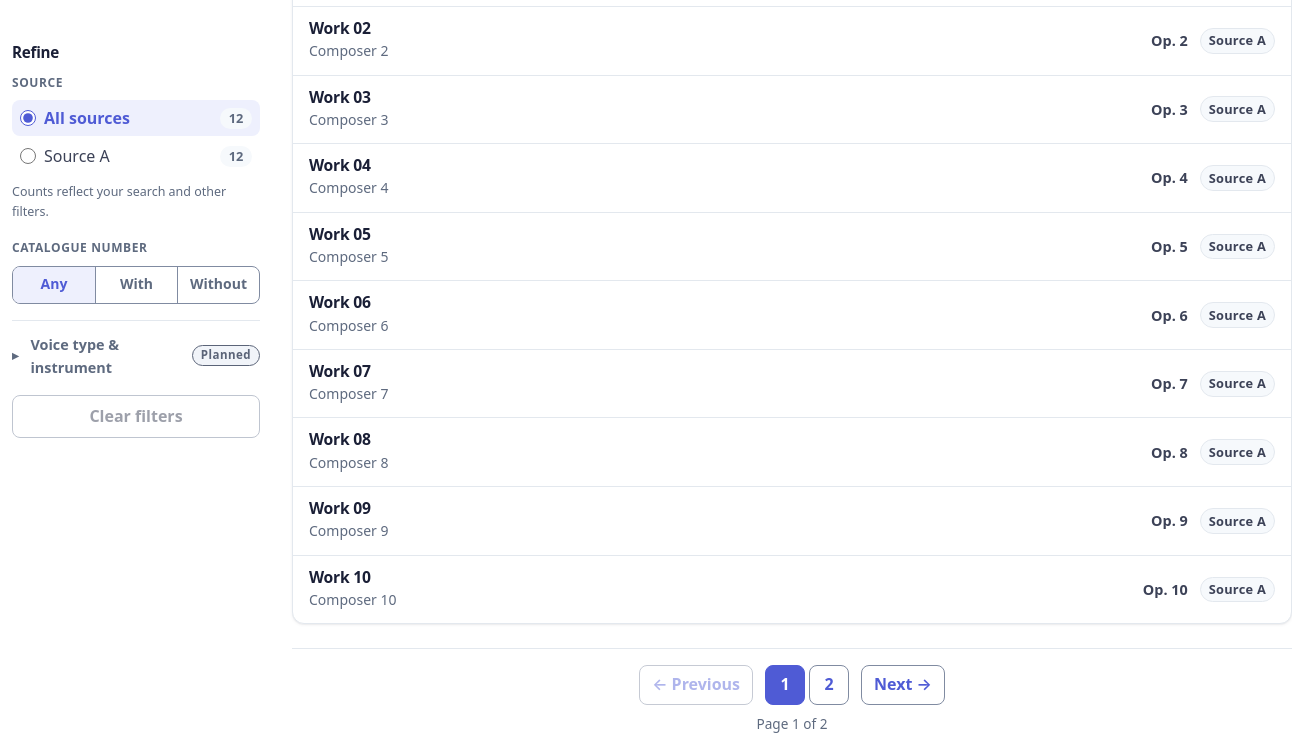
Scenario: WorkCataloguePage › jumps to a numbered page
(page scrolled)
What coordinates should you click on to do the following:
click the button "2"
I would click on:
 (829, 685)
Its box is [809, 665, 849, 705].
(page scrolled)
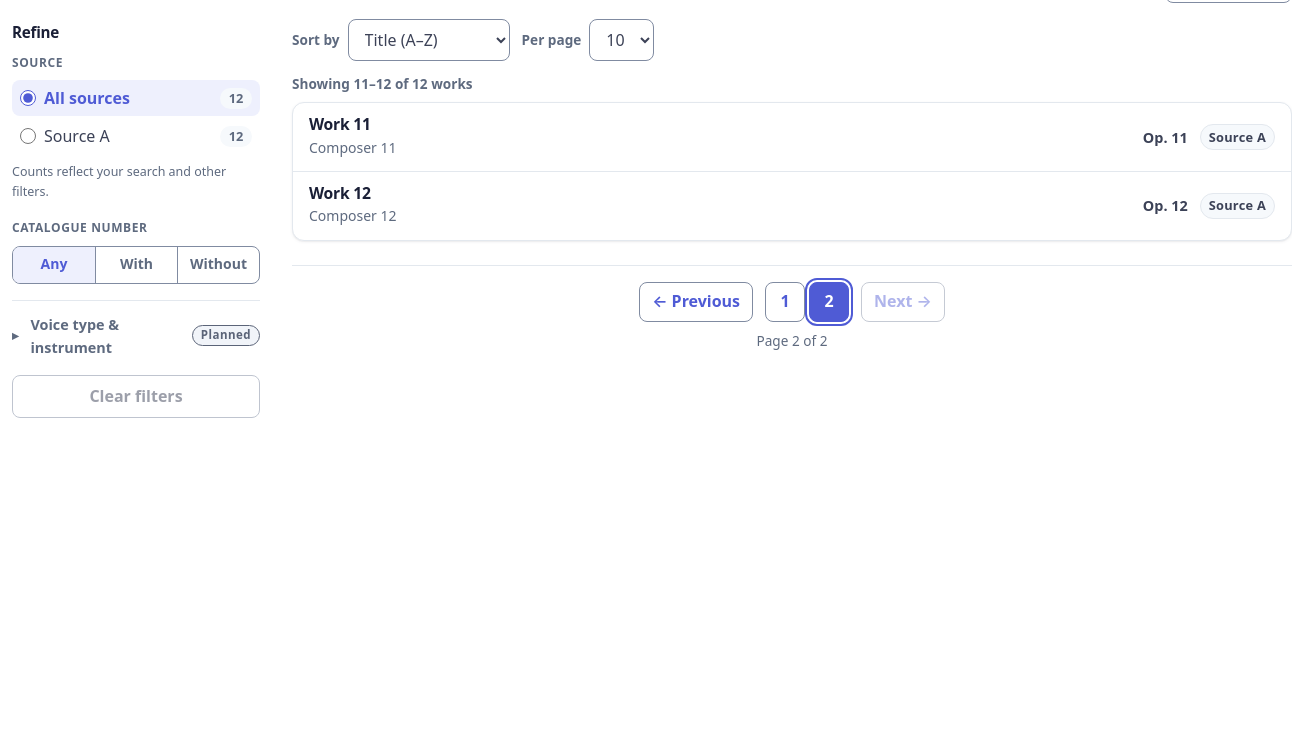
Result: the text "Showing 11–12 of 12 works" is shown at [292, 73, 473, 94]
